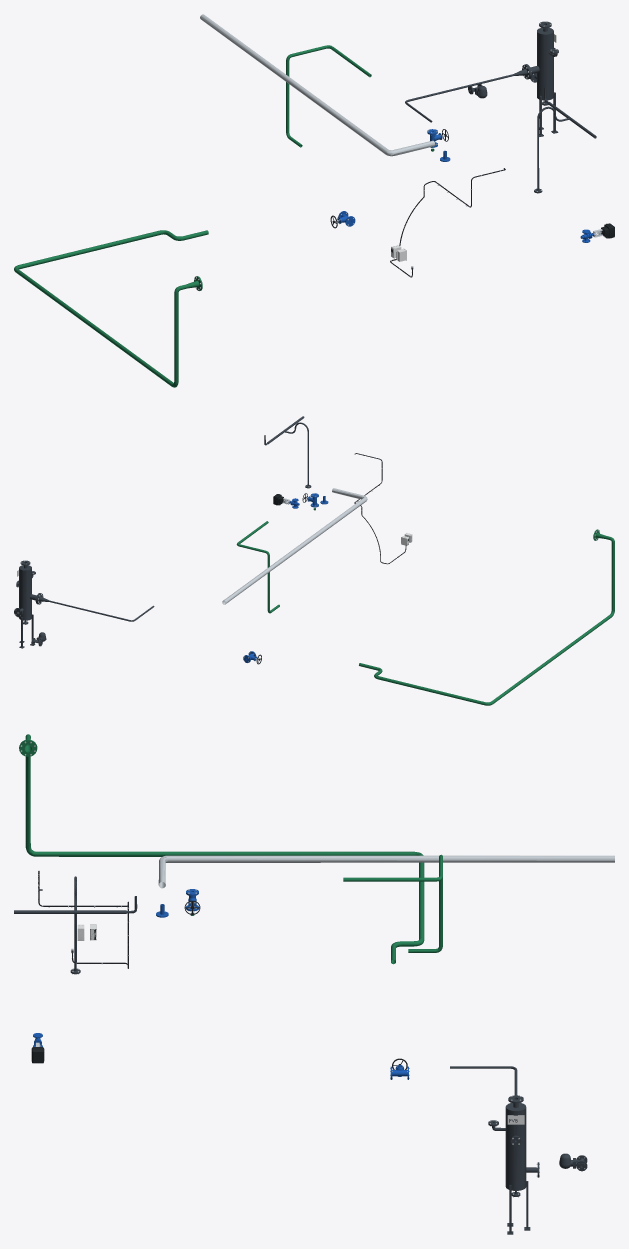
Rendered from s4000-5-ULdvaAHC.glb.
3 views of the same model, one above another, from view 1: azimuth 30°, elevation 25°; view 2: azimuth 150°, elevation 25°; view 3: azimuth 270°, elevation 25° (orthographic). The views are drawn at different scales.
Visible parts, largest first — view 1: deaerator_feed / green, safety_vent_1 / steel, separator_fv8 / dark, from_economizer / green, pressure_header / dark, tds_to_fv / dark; view 2: deaerator_feed / green, separator_fv8 / dark, safety_vent_1 / steel; view 3: safety_vent_1 / steel, deaerator_feed / green, separator_fv8 / dark, from_economizer / green, pressure_header / dark.
Part boxes in pixels (x1,y1,x2,y2): deaerator_feed / green: [14, 230, 208, 387]; safety_vent_1 / steel: [200, 14, 435, 156]; separator_fv8 / dark: [526, 21, 558, 136]; from_economizer / green: [286, 45, 360, 147]; pressure_header / dark: [534, 87, 596, 193]; tds_to_fv / dark: [405, 64, 530, 122]; deaerator_feed / green: [359, 529, 614, 705]; separator_fv8 / dark: [14, 560, 40, 648]; safety_vent_1 / steel: [222, 488, 367, 604]; safety_vent_1 / steel: [158, 855, 614, 888]; deaerator_feed / green: [19, 734, 424, 964]; separator_fv8 / dark: [488, 1095, 539, 1234]; from_economizer / green: [366, 854, 442, 952]; pressure_header / dark: [14, 876, 137, 974].
Size of the model in its own units: 8.64 by 2.87 by 6.38.
